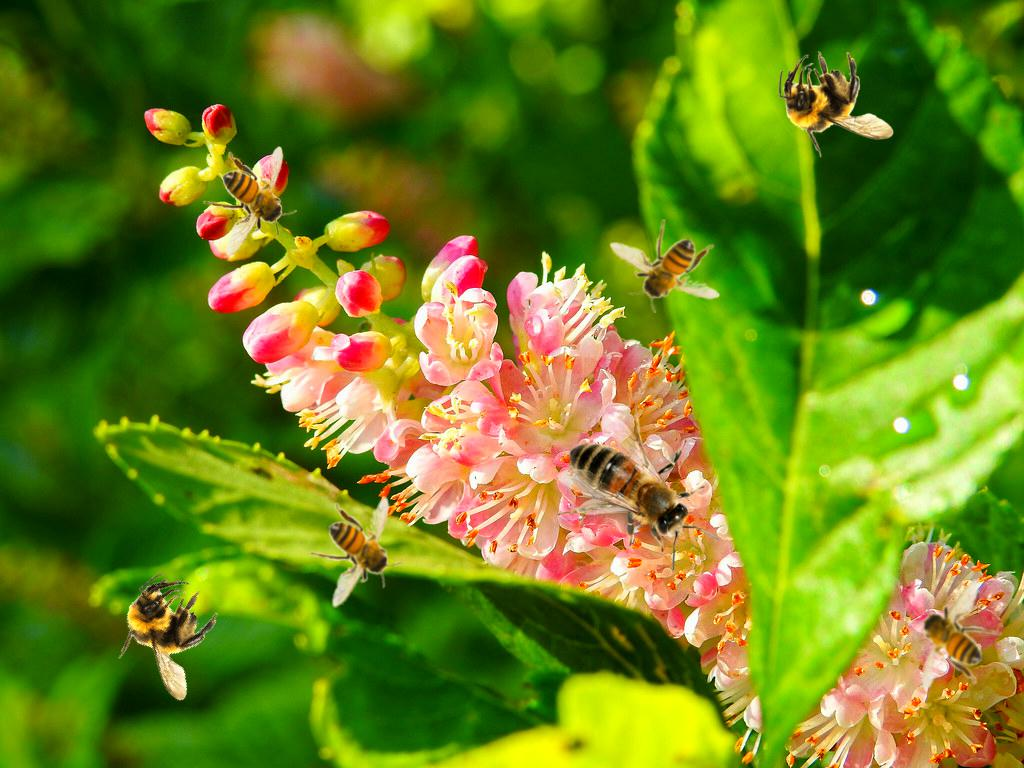Bee: (557, 405, 719, 572), (91, 559, 248, 716), (779, 51, 894, 158), (908, 579, 1002, 690), (203, 146, 297, 257), (309, 497, 403, 608), (609, 219, 720, 313)
